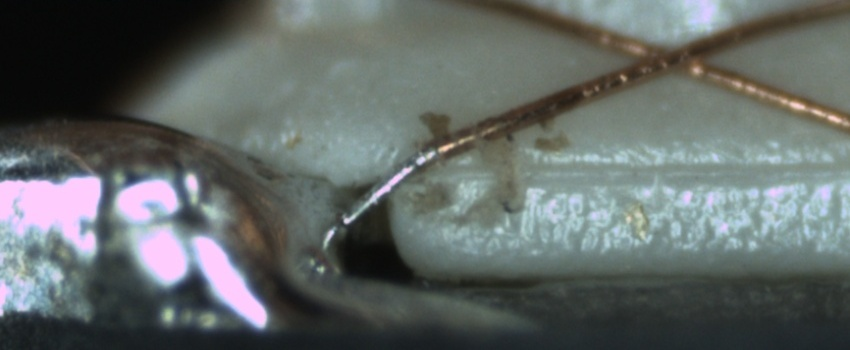CL: (605, 29, 740, 83)
DL: (403, 135, 850, 193)
TS: (342, 144, 438, 232)
TTCW: (340, 130, 454, 232)
